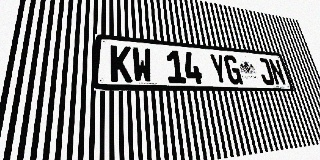1: (165, 50, 186, 83)
4: (182, 51, 203, 84)
G: (223, 55, 243, 85)
J: (256, 58, 276, 85)
K: (110, 45, 132, 82)
N: (268, 59, 287, 85)
W: (132, 47, 153, 83)
Y: (209, 53, 229, 84)
